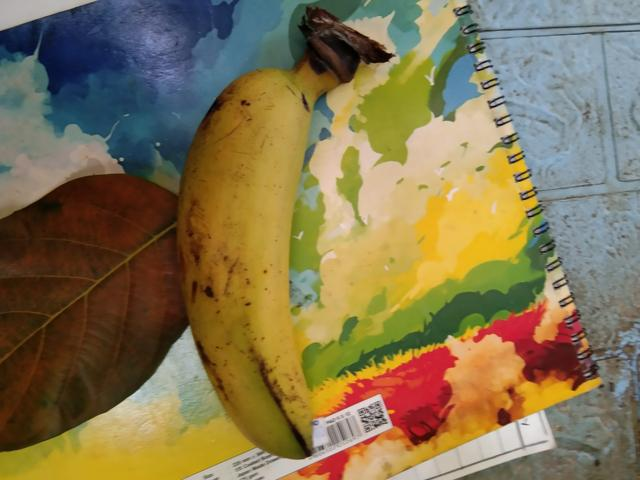ripe: (167, 62, 364, 479)
